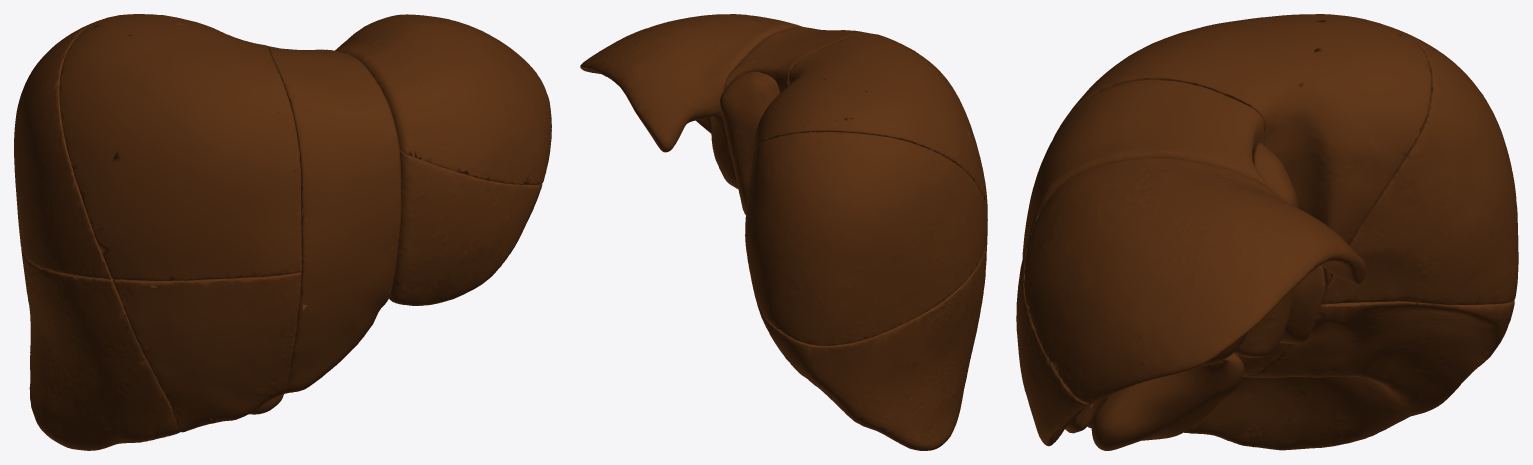
The model's file is Higado.fbx.
3 renders of one model, left to right at view 1: azimuth 30°, elevation 25°; view 2: azimuth 150°, elevation 25°; view 3: azimuth 270°, elevation 25°, orthographic. The views are drawn at different scales.
Visible parts, largest first — view 1: Higado; view 2: Higado; view 3: Higado.
Part boxes in pixels (x1,y1,x2,y2): Higado: (14, 14, 551, 450); Higado: (580, 14, 987, 450); Higado: (1016, 14, 1518, 450).
Bounding box in the file's own units: 20.94 × 16.7 × 15.91.
